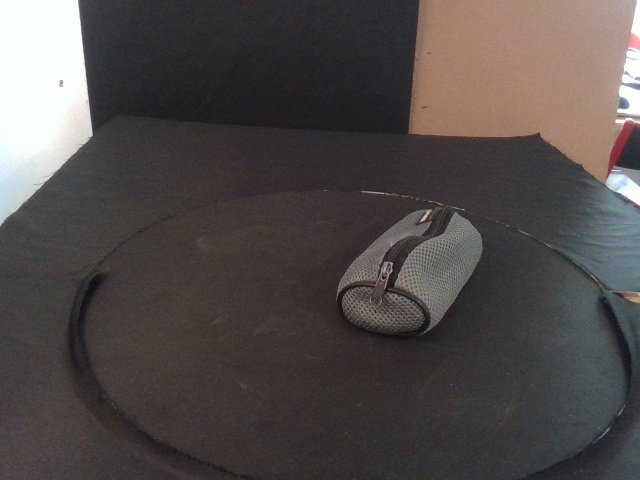pencil_case: (336, 208, 483, 336)
